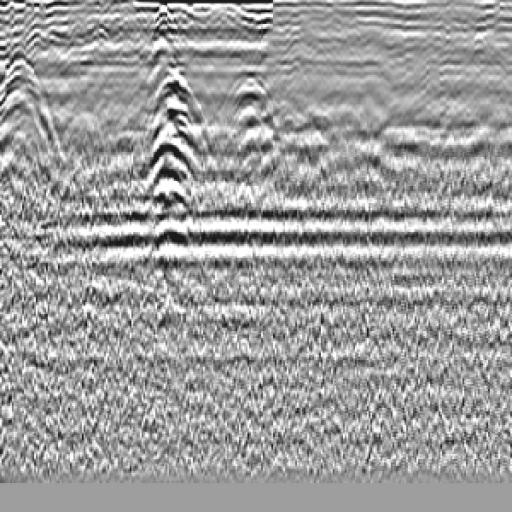metalic: (117, 28, 222, 290)
nonmetalic: (1, 34, 74, 190), (221, 68, 314, 164)
